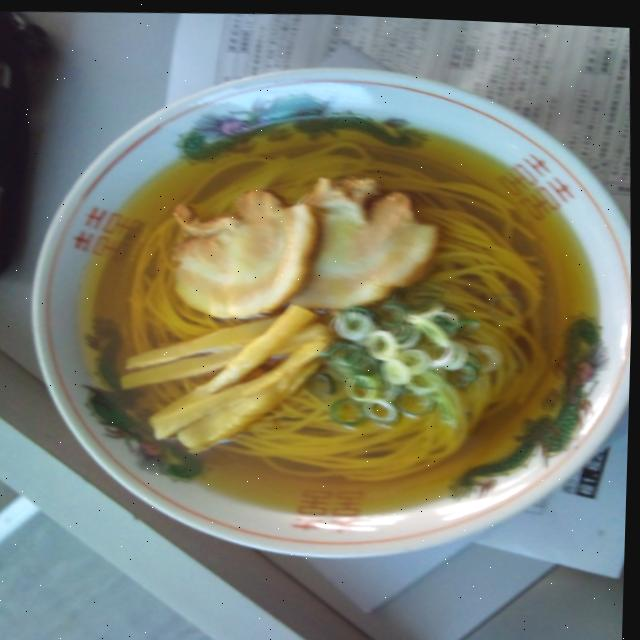面条主食: (46, 73, 638, 525)
